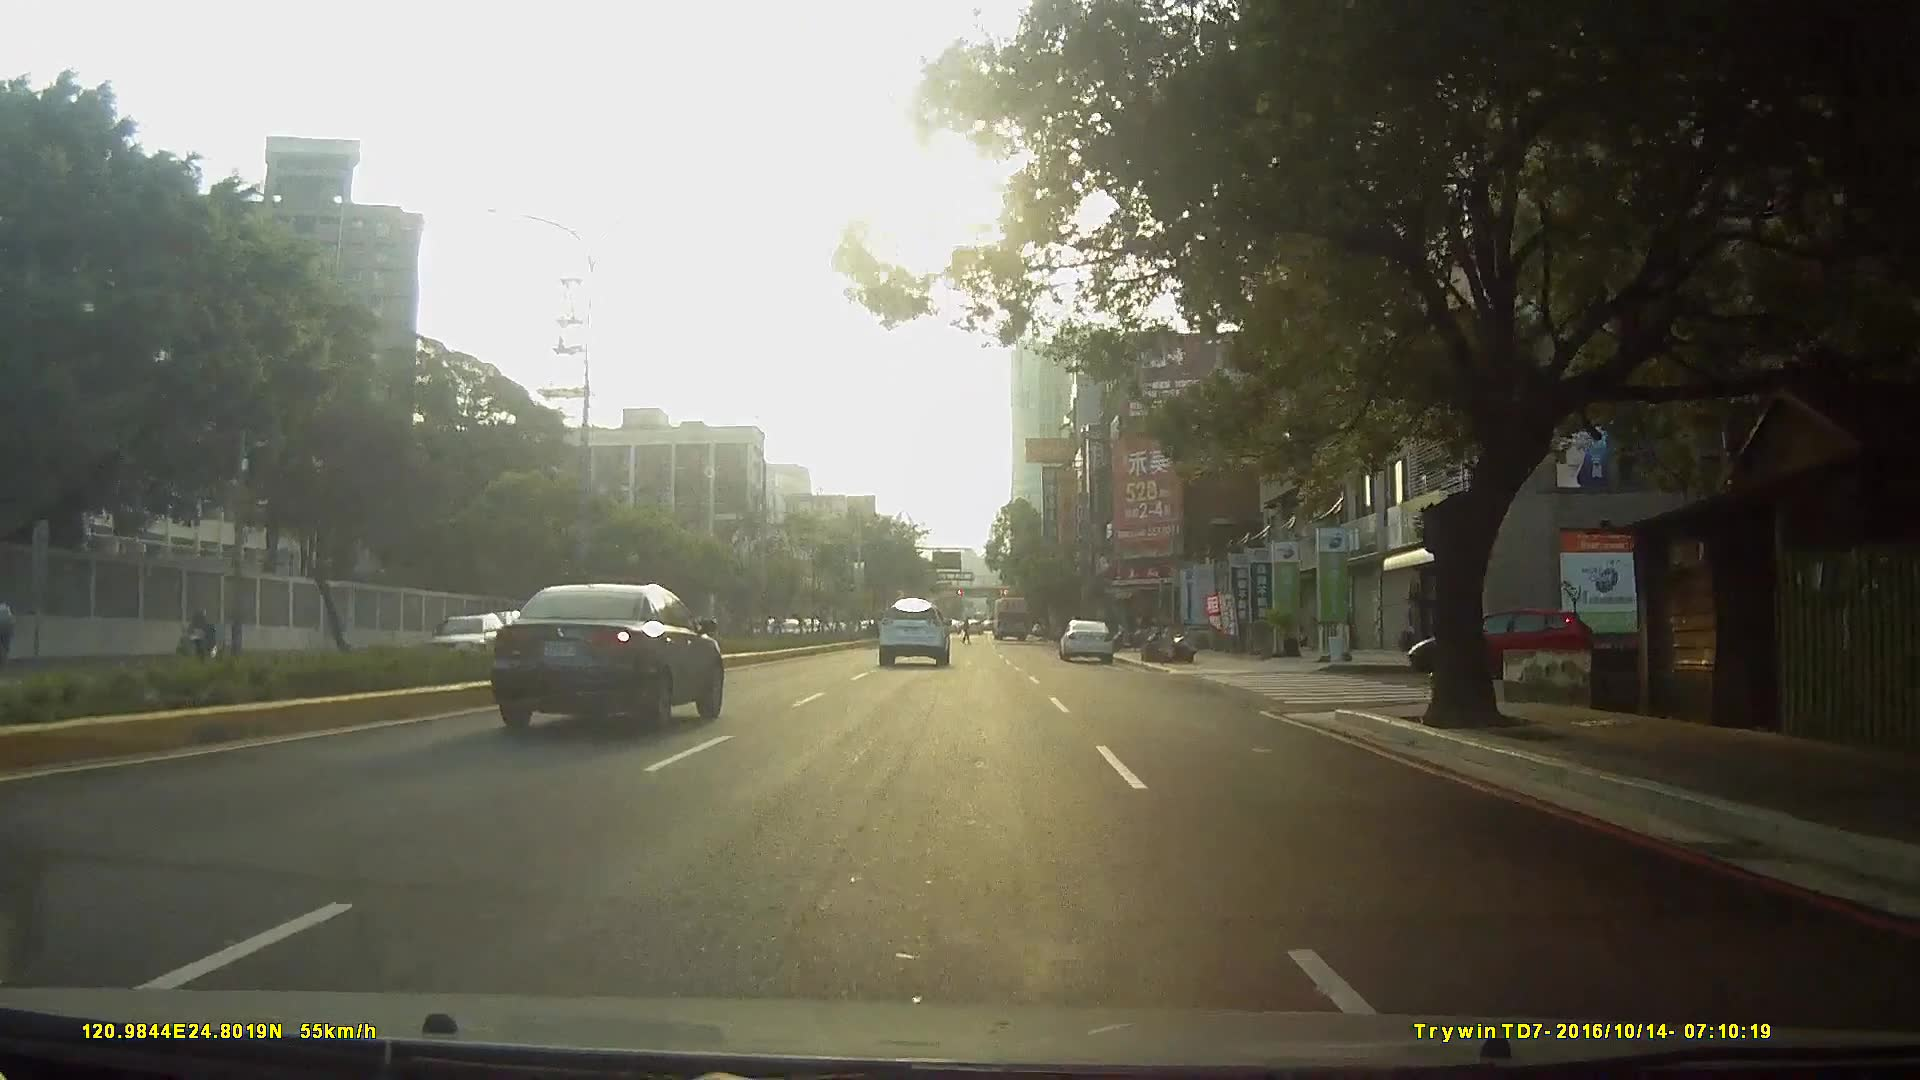pedestrian: (1433, 600, 1455, 665)
rider: (176, 610, 222, 675)
vehicle: (492, 586, 728, 735), (1408, 600, 1611, 686), (419, 618, 525, 680), (877, 601, 950, 670), (1057, 620, 1117, 664), (988, 598, 1032, 645)
